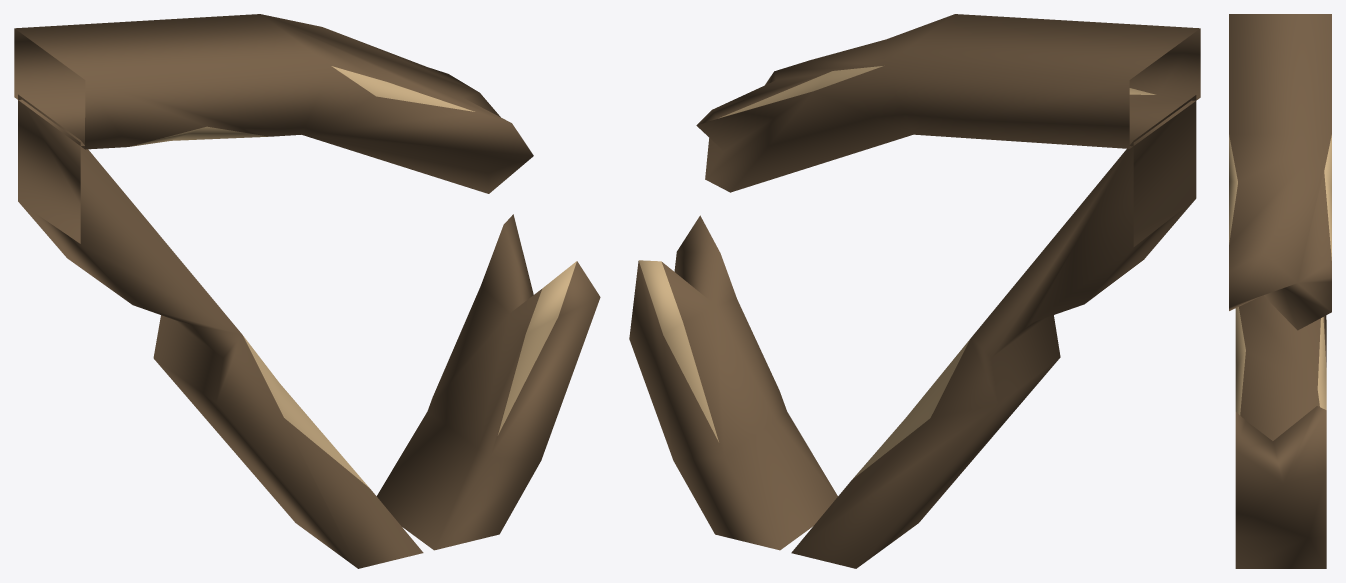
The model's file is rpgpp_av_wall_beam_05_3x3.fbx.
3 views of the same model, side by side, from view 1: azimuth 30°, elevation 25°; view 2: azimuth 150°, elevation 25°; view 3: azimuth 270°, elevation 25° (orthographic). The views are drawn at different scales.
Visible parts, largest first — view 1: rpgpp_av_wall_beam_05_3x3; view 2: rpgpp_av_wall_beam_05_3x3; view 3: rpgpp_av_wall_beam_05_3x3.
Part boxes in pixels (x1,y1,x2,y2): rpgpp_av_wall_beam_05_3x3: [14, 14, 600, 568]; rpgpp_av_wall_beam_05_3x3: [629, 14, 1200, 568]; rpgpp_av_wall_beam_05_3x3: [1229, 14, 1331, 568].
Size of the model in its own units: 2.26 by 2.32 by 0.5323.
